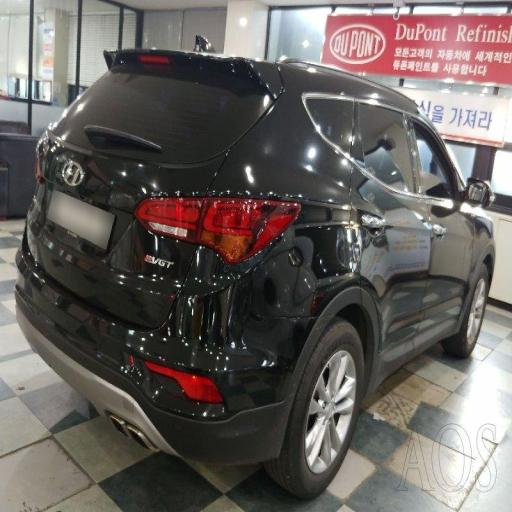scratch: (120, 165, 301, 437)
